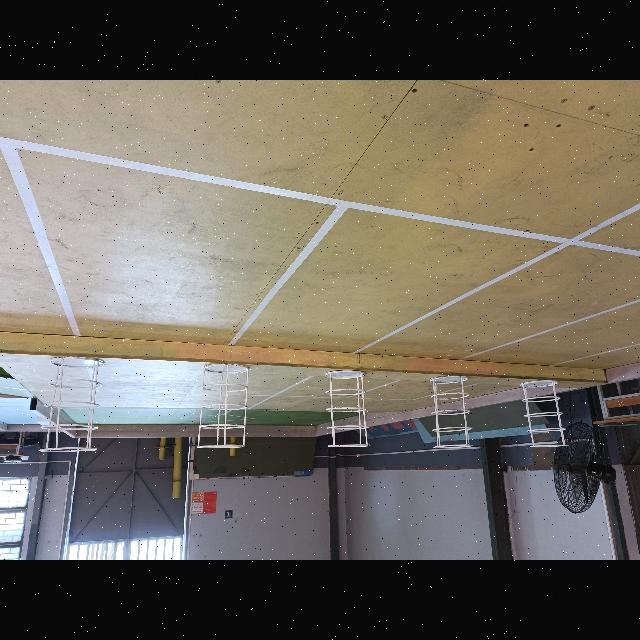S: (39, 357, 105, 452), (197, 363, 249, 448), (325, 370, 371, 448), (519, 380, 569, 448), (429, 375, 474, 449)
